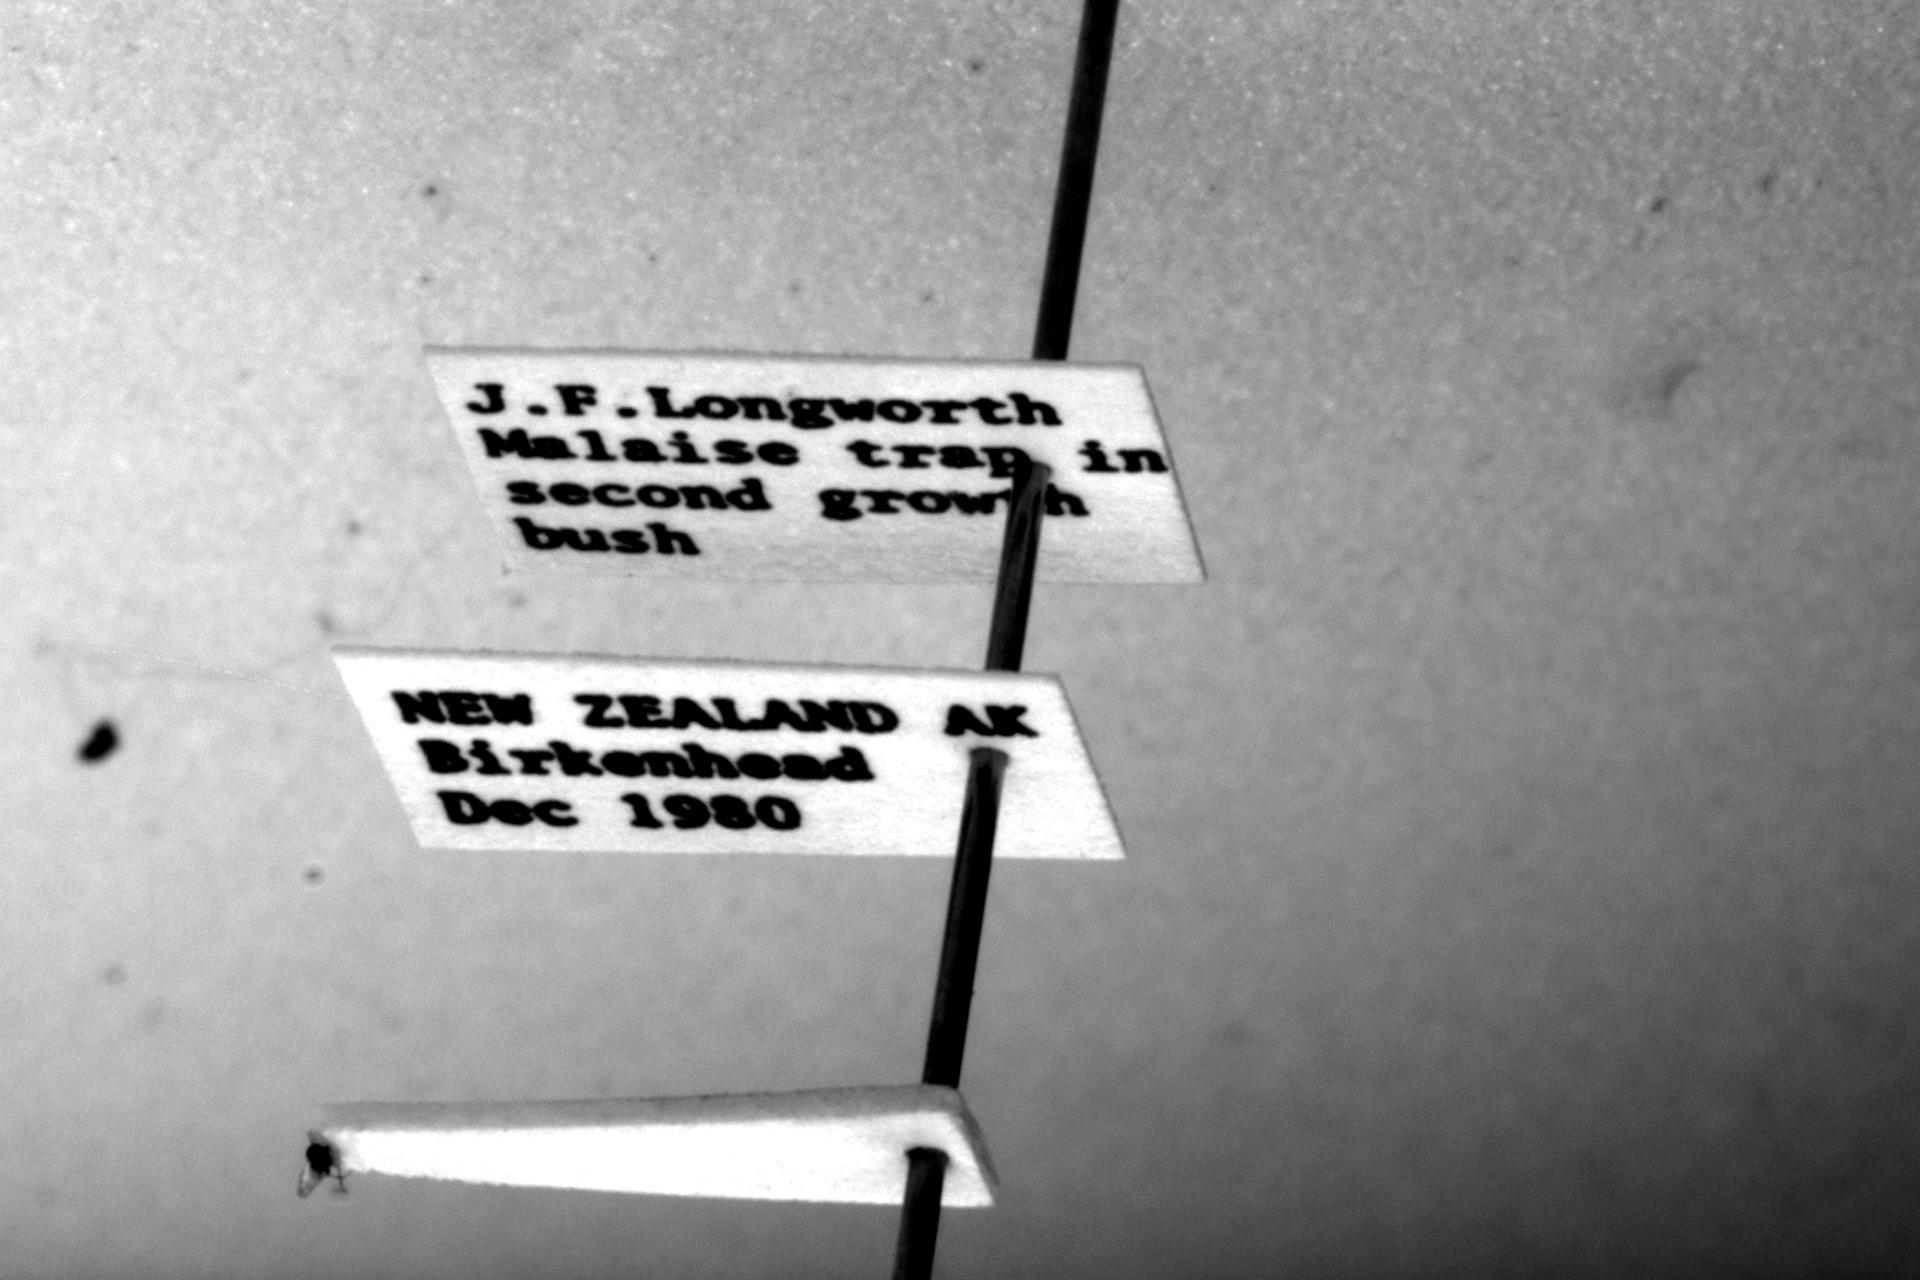typed_label: (428, 349, 1204, 581), (334, 649, 1125, 859)
